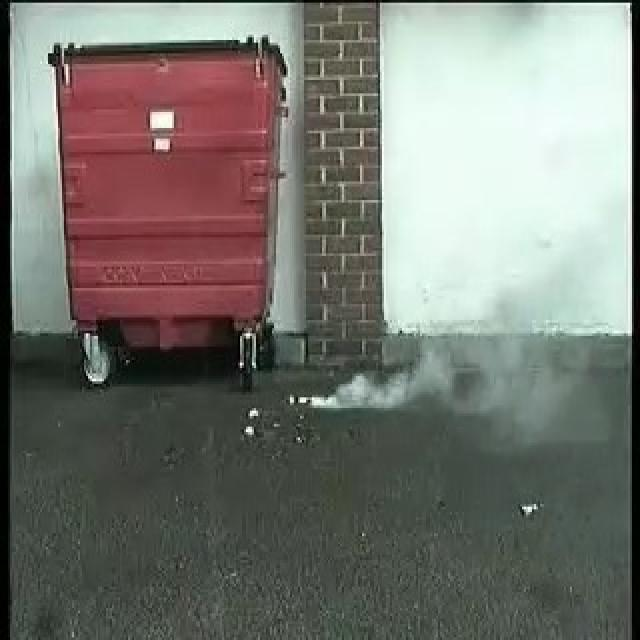Smoke: (314, 312, 494, 412)
